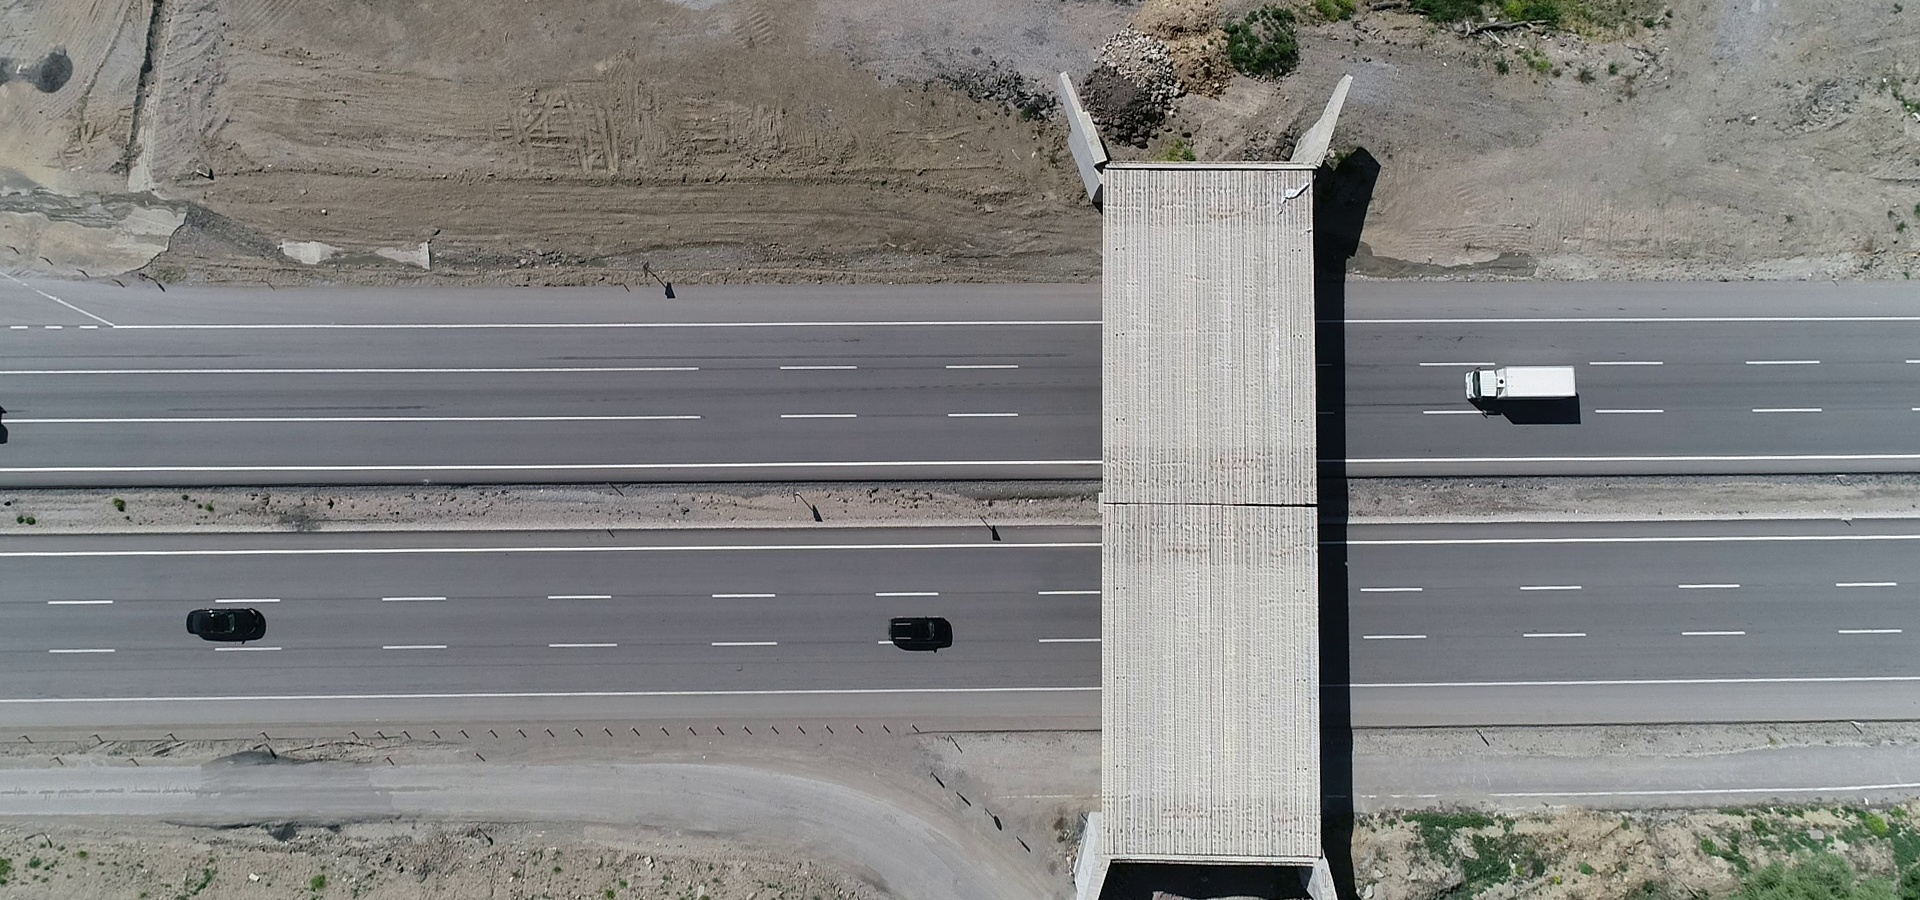arac: (1462, 353, 1591, 408), (182, 594, 267, 644), (883, 610, 964, 651)
